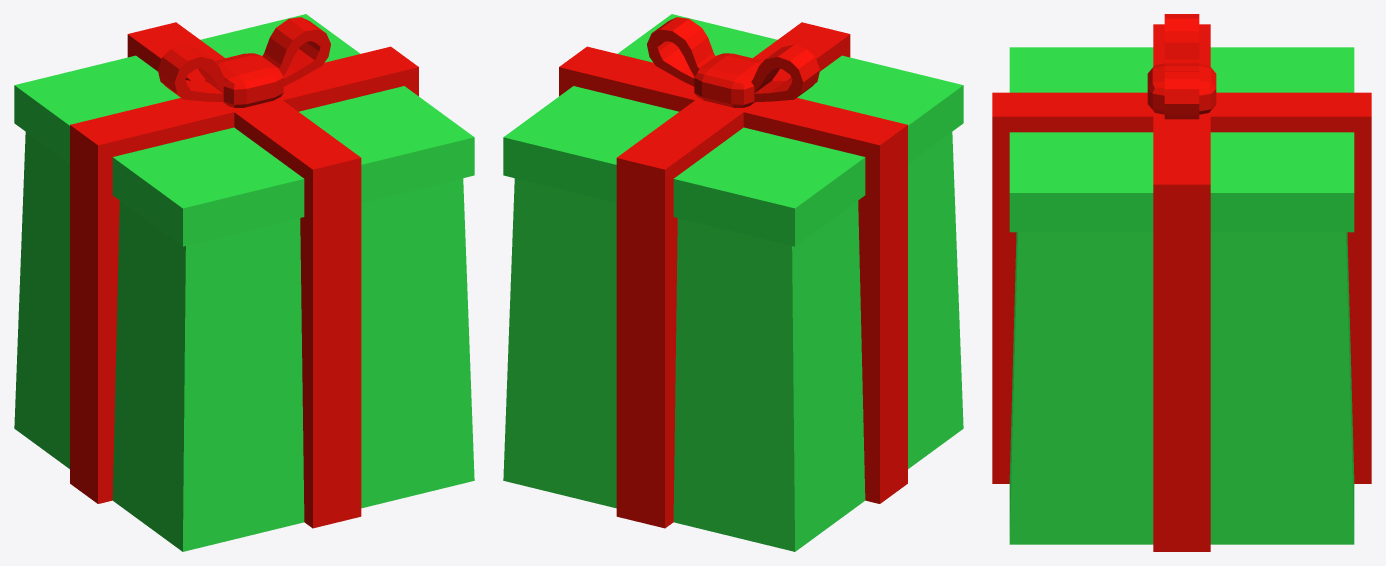
File: Present.fbx
The picture shows the model from 3 angles, left to right: view 1: azimuth 30°, elevation 25°; view 2: azimuth 150°, elevation 25°; view 3: azimuth 270°, elevation 25°; orthographic projection. The views are drawn at different scales.
Parts seen in each view (by area): view 1: Present; view 2: Present; view 3: Present.
Part boxes in pixels (box(x1,y1,x2,y2)): Present: box(14, 14, 474, 551); Present: box(503, 14, 963, 551); Present: box(992, 14, 1371, 551).
Bounding box in the file's own units: 44 × 54.62 × 44.
